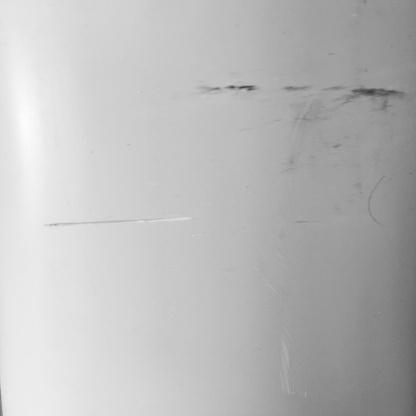sunshang: (40, 214, 223, 233)
